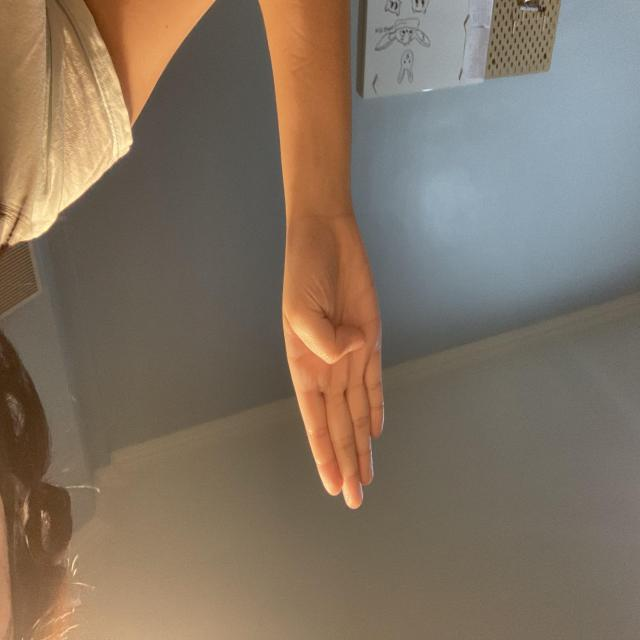B: (254, 127, 364, 428)
